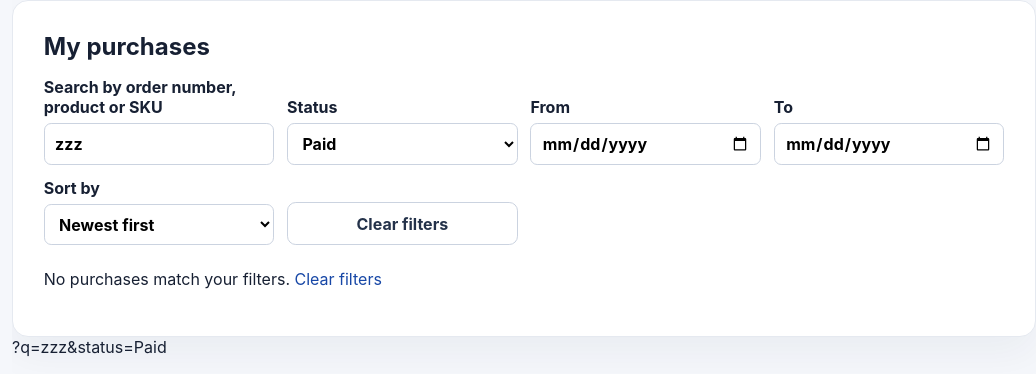
it: my purchases page › shows a no-results state whose button clears all filters
Check: the text "No purchases match your filters." is shown, box top-left (44, 270), bottom-right (290, 290)
What coordinates should you click on to do the following:
click the button "Clear filters" below "Sort by"
I would click on:
 (402, 224)
Its box is top-left (287, 202), bottom-right (518, 246).
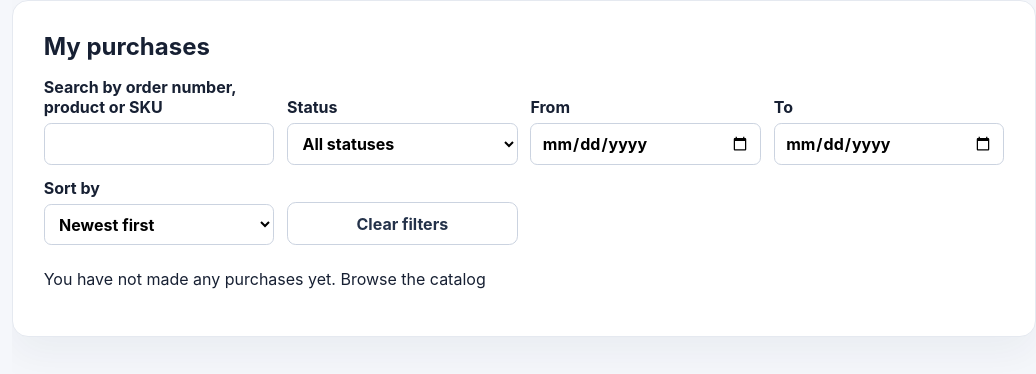
Check: the search field labelled "Search by order number, product or SKU" is empty, box top-left (44, 123), bottom-right (274, 165)
Check: the dropdown labelled "Status" shows "All statuses", box top-left (287, 123), bottom-right (518, 165)
